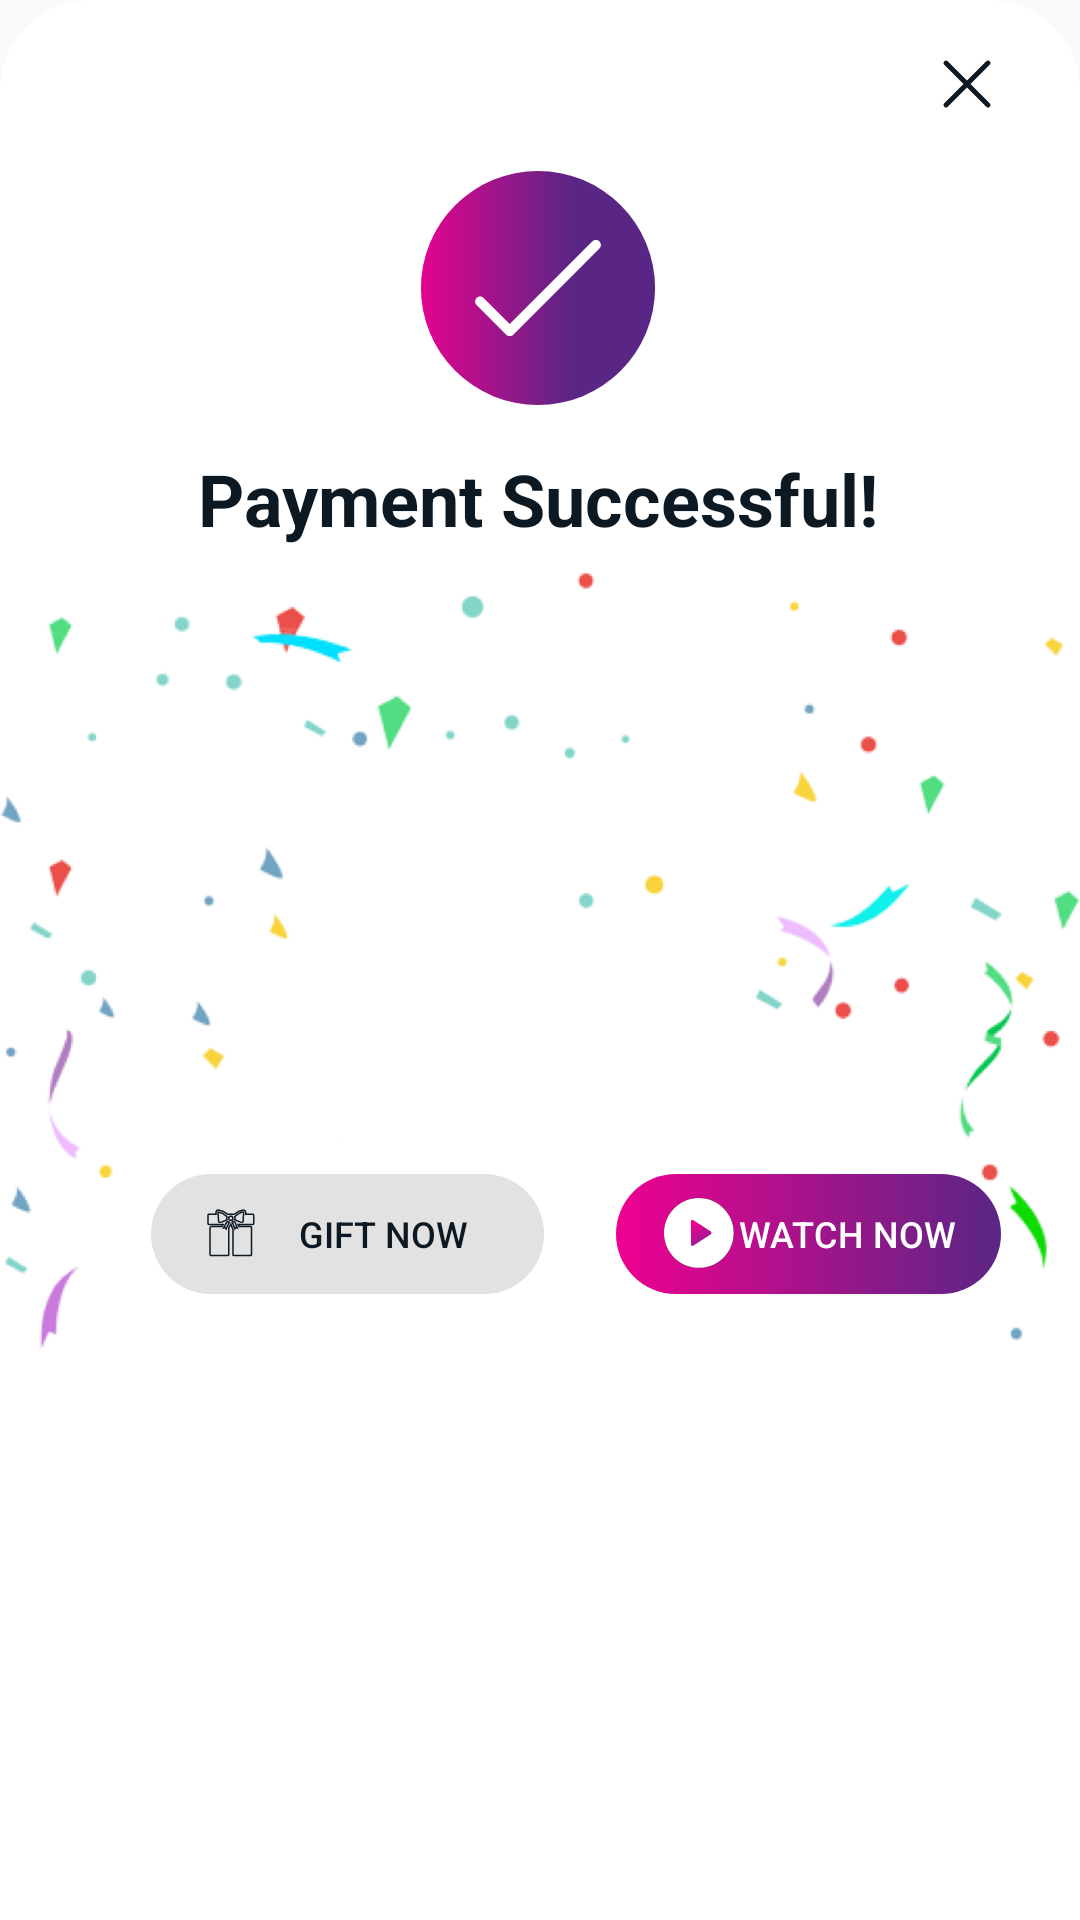

Where icons sit on this 1080 x 1920 app screen, as (x1, y1, x2, y2):
cancel: (943, 60, 991, 108)
